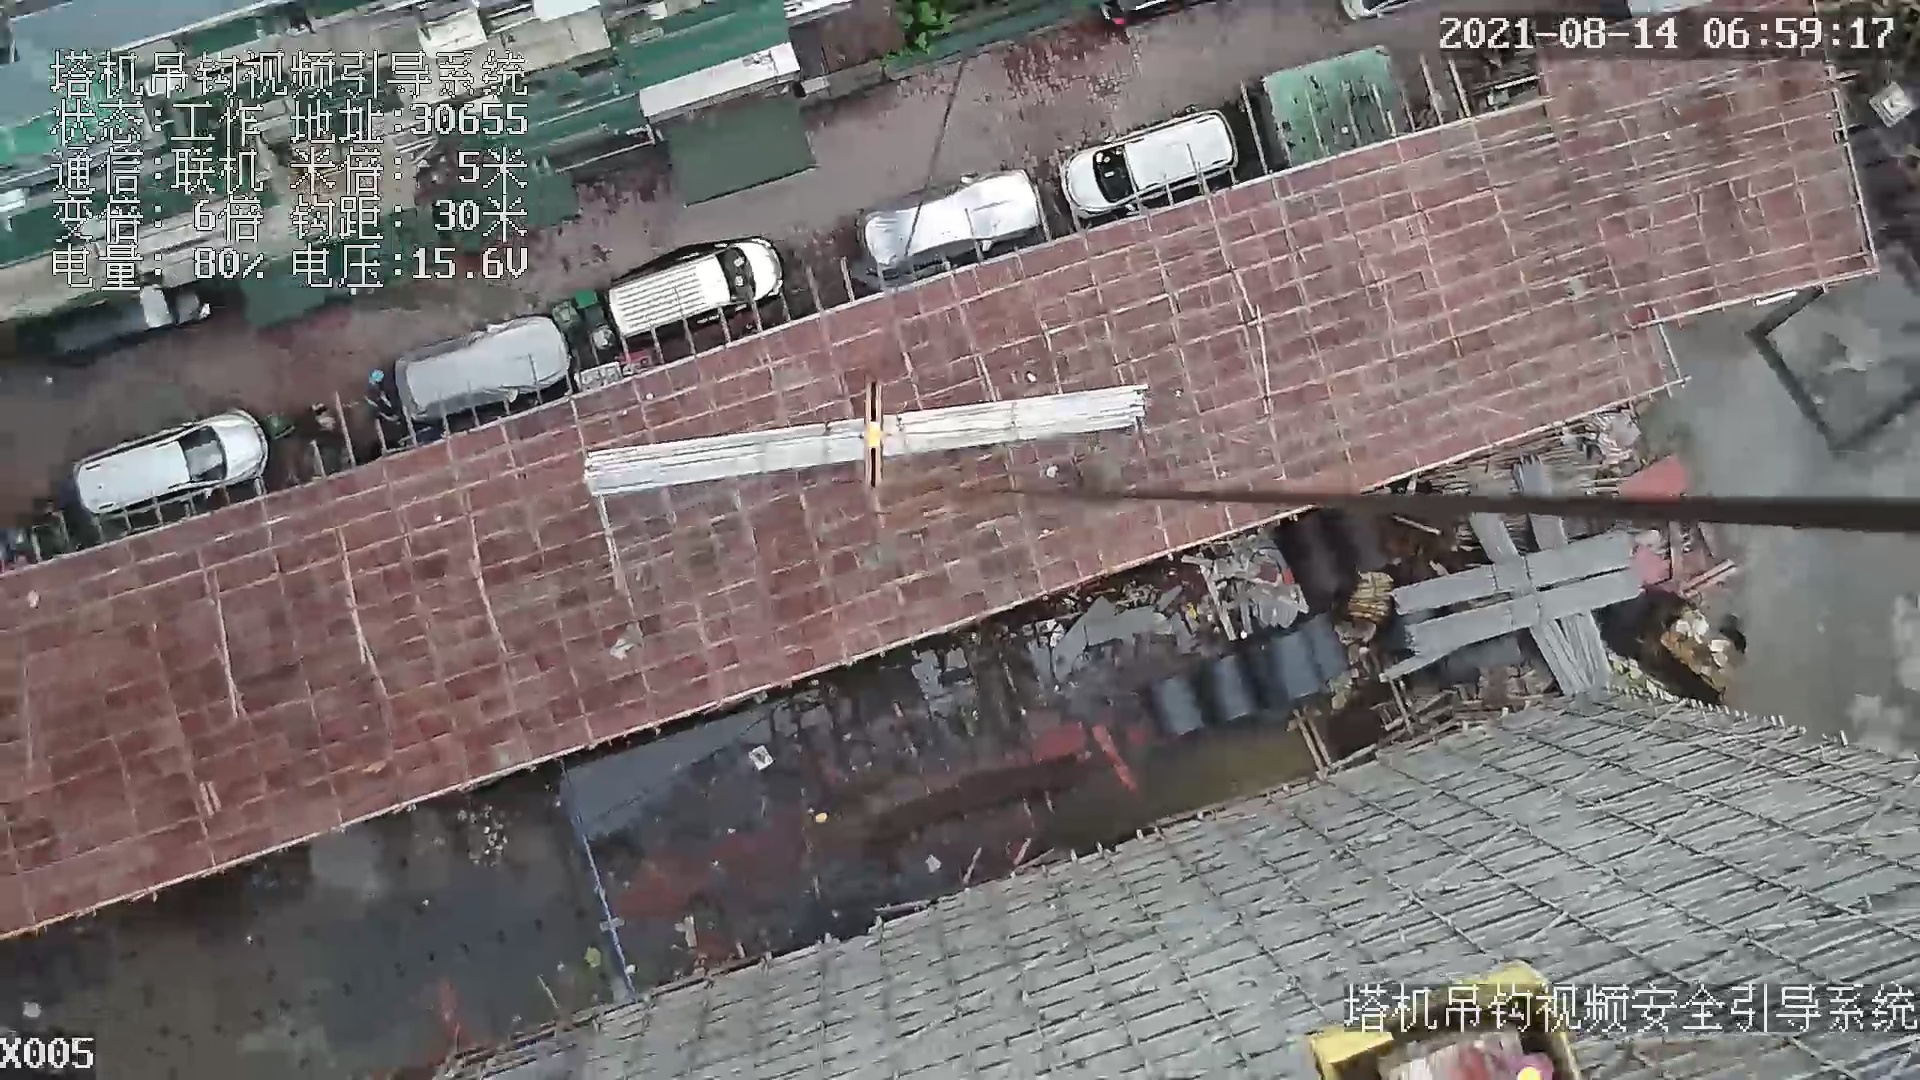hook: (858, 375, 882, 491)
rebar: (582, 386, 1146, 489), (1515, 462, 1617, 692), (1404, 568, 1644, 663), (1468, 512, 1592, 694), (1393, 527, 1634, 616)
wood: (1348, 572, 1390, 621)
